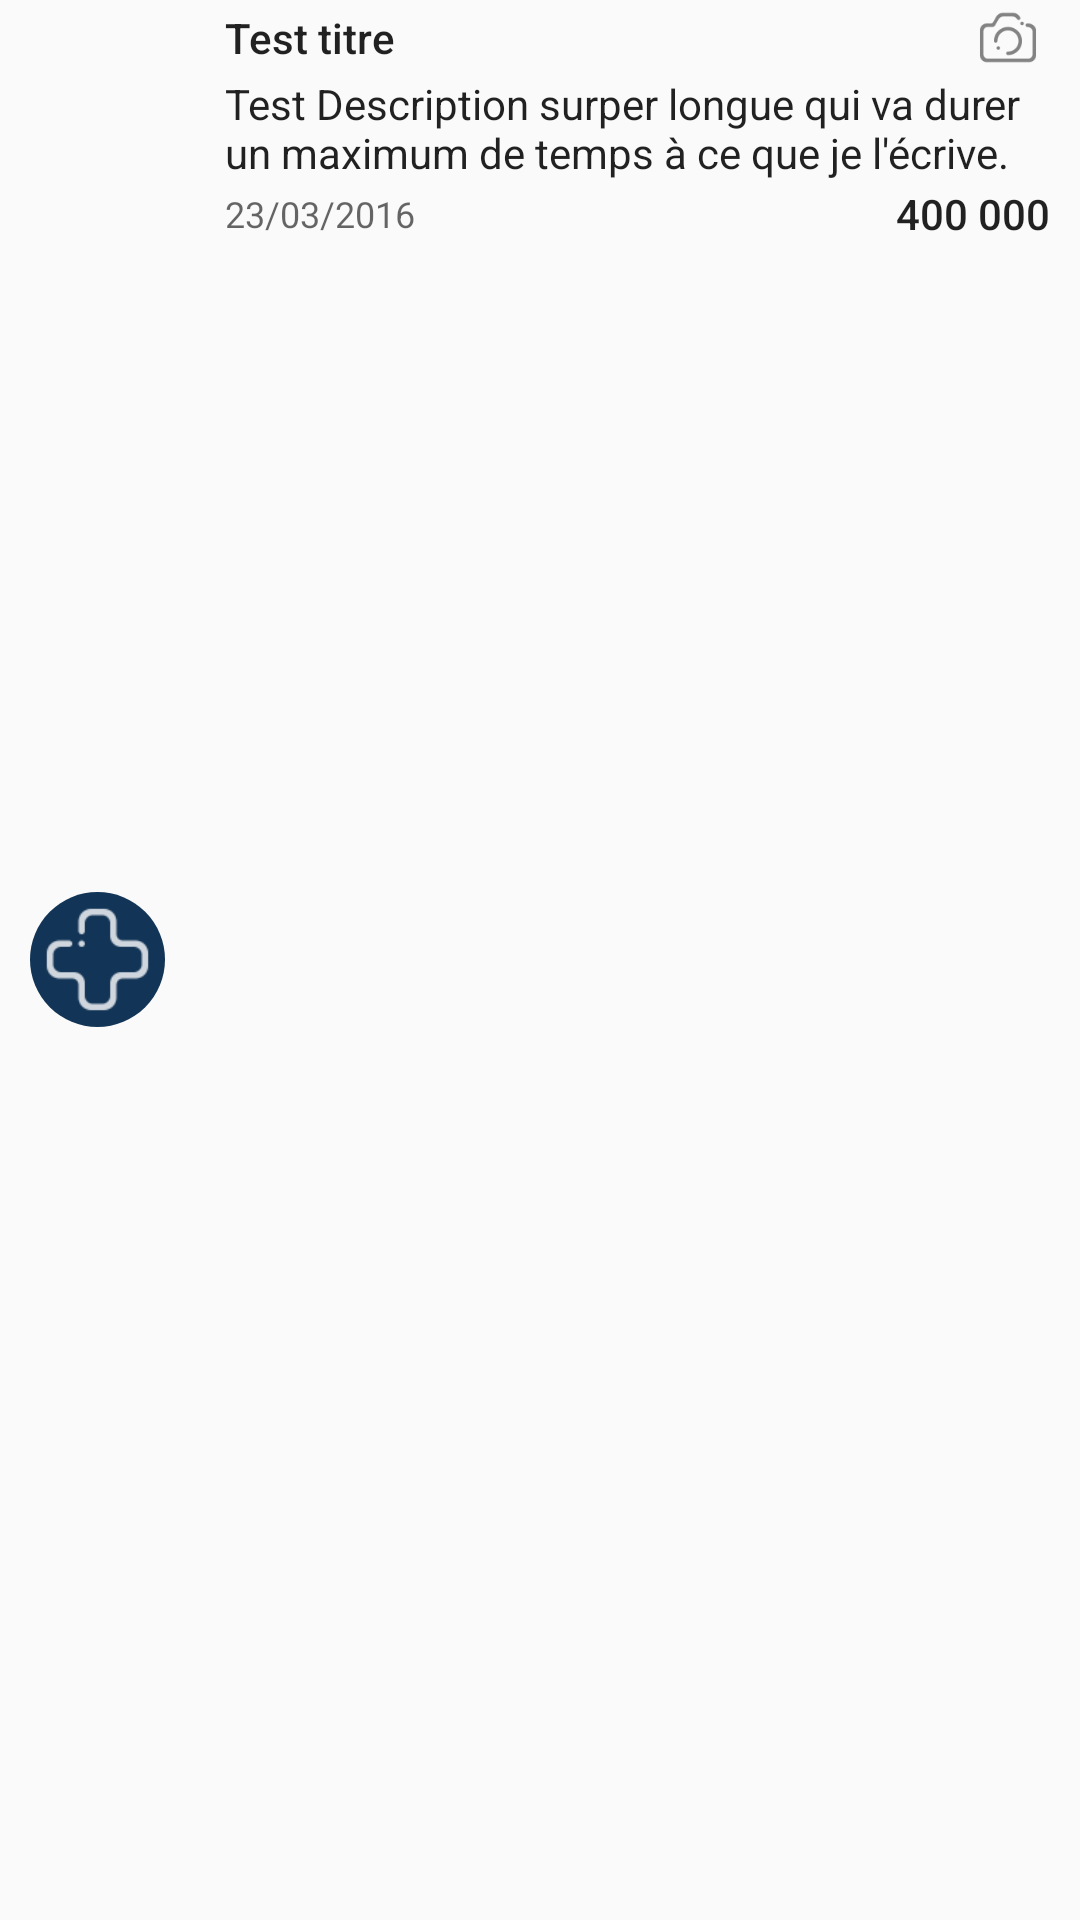

Icon click points for this 1080*1920 phone screenshot, format point (x, y):
add: point (97, 959)
camera: point (1008, 37)
